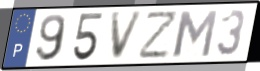3: (216, 8, 245, 58)
5: (71, 11, 106, 62)
9: (34, 13, 68, 63)
M: (171, 8, 220, 59)
V: (110, 9, 146, 62)
Z: (137, 9, 181, 61)
